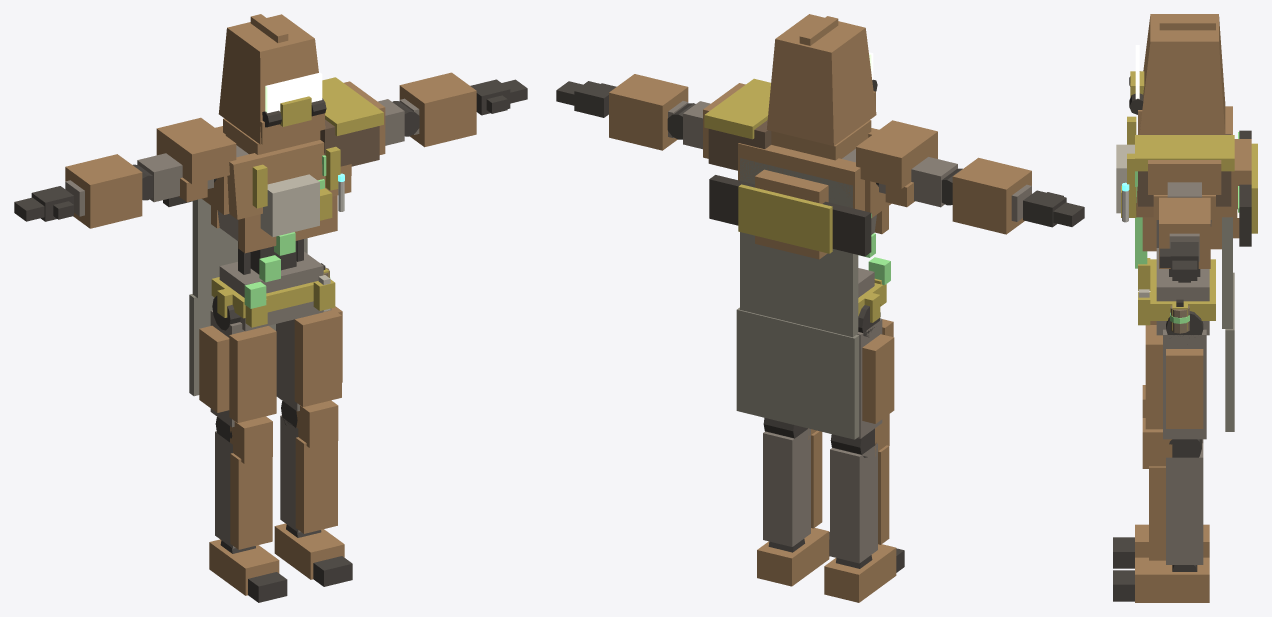
File: char_P_breacher.glb
3 views of the same model, side by side, from view 1: azimuth 30°, elevation 25°; view 2: azimuth 150°, elevation 25°; view 3: azimuth 270°, elevation 25° (orthographic). The views are drawn at different scales.
Visible parts, largest first — view 1: Head_mesh, UpperChest_mesh, RightUpperLeg_mesh, LeftLowerLeg_mesh, RightLowerLeg_mesh, Hips_mesh, LeftUpperLeg_mesh, RightUpperArm_mesh, RightLowerArm_mesh, LeftLowerArm_mesh, LeftShoulder_mesh, Chest_mesh (+11 smaller); view 2: UpperChest_mesh, Hips_mesh, Head_mesh, RightLowerLeg_mesh, LeftLowerLeg_mesh, RightUpperArm_mesh, RightLowerArm_mesh, LeftLowerArm_mesh, LeftShoulder_mesh, RightUpperLeg_mesh, LeftFoot_mesh, RightFoot_mesh (+6 smaller); view 3: Head_mesh, LeftLowerLeg_mesh, LeftUpperLeg_mesh, Hips_mesh, UpperChest_mesh, LeftShoulder_mesh, LeftFoot_mesh, LeftUpperArm_mesh, LeftLowerArm_mesh, LeftHand_mesh, Chest_mesh, Slot_ChargeSlot_1 (+6 smaller).
Part boxes in pixels (<box>): Head_mesh: <box>218,14,326,144</box>; UpperChest_mesh: <box>192,118,351,298</box>; RightUpperLeg_mesh: <box>199,296,276,427</box>; LeftLowerLeg_mesh: <box>280,400,338,533</box>; RightLowerLeg_mesh: <box>215,416,272,549</box>; Hips_mesh: <box>189,251,335,396</box>; LeftUpperLeg_mesh: <box>276,306,342,411</box>; RightUpperArm_mesh: <box>137,117,236,202</box>; RightLowerArm_mesh: <box>65,154,153,228</box>; LeftLowerArm_mesh: <box>392,72,476,147</box>; LeftShoulder_mesh: <box>320,77,383,166</box>; Chest_mesh: <box>211,195,337,308</box>; UpperChest_mesh: <box>738,120,891,337</box>; Hips_mesh: <box>736,268,886,439</box>; Head_mesh: <box>766,14,877,145</box>; RightLowerLeg_mesh: <box>830,414,889,563</box>; LeftLowerLeg_mesh: <box>763,417,822,546</box>; RightUpperArm_mesh: <box>856,120,957,207</box>; RightLowerArm_mesh: <box>941,157,1031,234</box>; LeftLowerArm_mesh: <box>609,74,695,150</box>; LeftShoulder_mesh: <box>704,78,771,170</box>; RightUpperLeg_mesh: <box>857,305,894,438</box>; LeftFoot_mesh: <box>757,528,829,586</box>; RightFoot_mesh: <box>824,544,896,602</box>; Head_mesh: <box>1129,14,1225,134</box>; LeftLowerLeg_mesh: <box>1142,418,1203,564</box>; LeftUpperLeg_mesh: <box>1145,311,1206,439</box>; Hips_mesh: <box>1138,248,1234,431</box>; UpperChest_mesh: <box>1121,106,1257,328</box>; LeftShoulder_mesh: <box>1135,134,1234,206</box>; LeftFoot_mesh: <box>1135,557,1209,602</box>; LeftUpperArm_mesh: <box>1148,160,1221,215</box>; LeftLowerArm_mesh: <box>1159,197,1210,268</box>; LeftHand_mesh: <box>1159,242,1198,280</box>; Chest_mesh: <box>1135,217,1221,268</box>; Slot_ChargeSlot_1: <box>1237,184,1251,246</box>.
Size of the model in its own units: 1.92 by 1.97 by 0.465.
